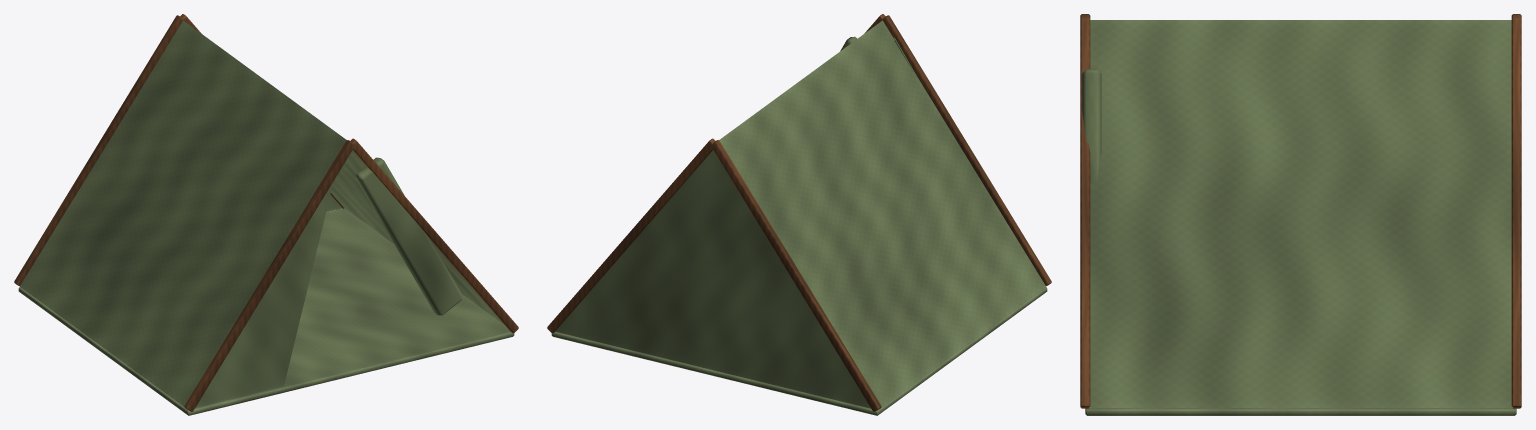
File: Furn_Camp_Tent.fbx
3 renders of one model, left to right at view 1: azimuth 30°, elevation 25°; view 2: azimuth 150°, elevation 25°; view 3: azimuth 270°, elevation 25°, orthographic. The views are drawn at different scales.
Visible parts, largest first — view 1: Furn_Camp_Tent; view 2: Furn_Camp_Tent; view 3: Furn_Camp_Tent.
Part boxes in pixels (x1,y1,x2,y2): Furn_Camp_Tent: (14, 14, 518, 415); Furn_Camp_Tent: (547, 14, 1051, 415); Furn_Camp_Tent: (1080, 14, 1521, 415).
Bounding box in the file's own units: 2.2 × 1.5 × 2.
2 materials, 2 textured.
